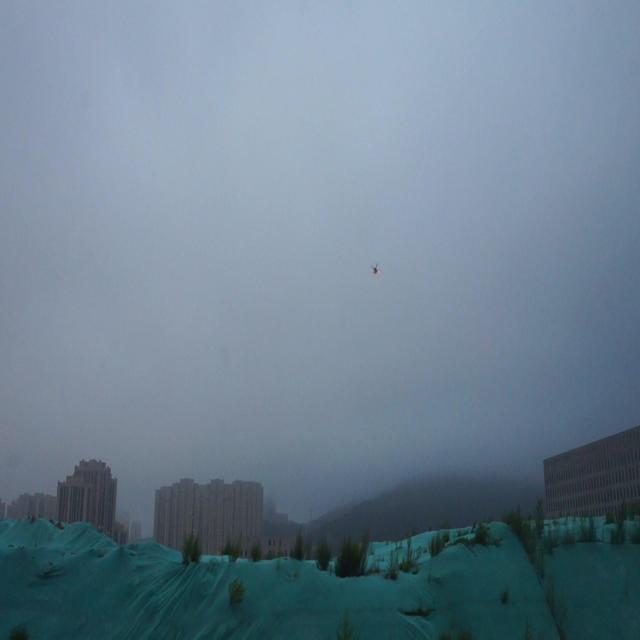drone: (370, 258, 382, 284)
